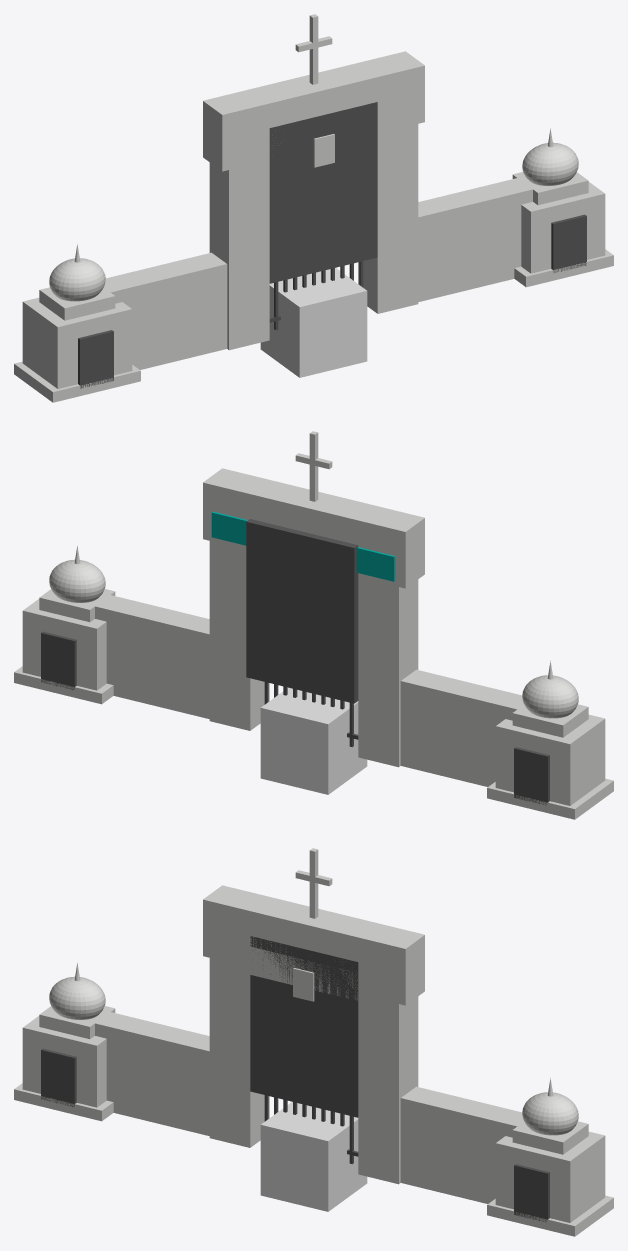
File: gate_of_salvation (1).glb
3 views of the same model, one above another, from view 1: azimuth 30°, elevation 25°; view 2: azimuth 150°, elevation 25°; view 3: azimuth 330°, elevation 25° (orthographic).
Parts seen in each view (by area): view 1: ArchVoid, ArchTopBlock, Wall_R, MainPillar_L, Wall_L, Cube, MainPillar_R, Pav_L_Body, Pav_R_Body, ConnWall_R, ConnWall_L, Pav_L_Dome (+10 smaller); view 2: ArchVoid, ArchTopBlock, Wall_L, Wall_R, MainPillar_L, Cube, MainPillar_R, Pav_L_Body, Pav_R_Body, ConnWall_R, Signboard, Pav_L_Dome (+10 smaller); view 3: ArchVoid, ArchTopBlock, Wall_R, Wall_L, MainPillar_R, Cube, MainPillar_L, Pav_R_Body, Pav_L_Body, MainLintel, ConnWall_L, Pav_R_Dome (+10 smaller).
Part boxes in pixels (left/top/right/bottom): ArchVoid: left=269, top=102, right=377, bottom=283; ArchTopBlock: left=203, top=51, right=424, bottom=171; Wall_R: left=418, top=176, right=545, bottom=301; MainPillar_L: left=209, top=162, right=269, bottom=350; Wall_L: left=97, top=252, right=227, bottom=369; Cube: left=260, top=267, right=367, bottom=377; MainPillar_R: left=358, top=127, right=418, bottom=313; Pav_L_Body: left=22, top=297, right=132, bottom=388; Pav_R_Body: left=521, top=182, right=605, bottom=273; ConnWall_R: left=440, top=230, right=493, bottom=296; ConnWall_L: left=149, top=304, right=203, bottom=366; Pav_L_Dome: left=49, top=258, right=105, bottom=301; ArchVoid: left=246, top=519, right=358, bottom=703; ArchTopBlock: left=203, top=468, right=424, bottom=588; Wall_L: left=400, top=669, right=530, bottom=786; Wall_R: left=85, top=593, right=209, bottom=718; MainPillar_L: left=358, top=579, right=418, bottom=767; Cube: left=260, top=687, right=367, bottom=794; MainPillar_R: left=209, top=548, right=269, bottom=730; Pav_L_Body: left=495, top=714, right=605, bottom=805; Pav_R_Body: left=22, top=599, right=106, bottom=690; ConnWall_R: left=134, top=644, right=187, bottom=713; Signboard: left=211, top=511, right=395, bottom=581; Pav_L_Dome: left=522, top=675, right=578, bottom=718; ArchVoid: left=250, top=936, right=358, bottom=1117; ArchTopBlock: left=203, top=885, right=424, bottom=1005; Wall_R: left=400, top=1086, right=530, bottom=1203; Wall_L: left=86, top=1010, right=209, bottom=1135; MainPillar_R: left=358, top=996, right=418, bottom=1184; Cube: left=260, top=1101, right=367, bottom=1211; MainPillar_L: left=209, top=965, right=269, bottom=1147; Pav_R_Body: left=495, top=1131, right=605, bottom=1222; Pav_L_Body: left=22, top=1016, right=106, bottom=1107; MainLintel: left=209, top=936, right=401, bottom=1010; ConnWall_L: left=134, top=1061, right=187, bottom=1130; Pav_R_Dome: left=522, top=1092, right=578, bottom=1135.
Bounding box in the file's own units: 16.6 × 9.6 × 2.
